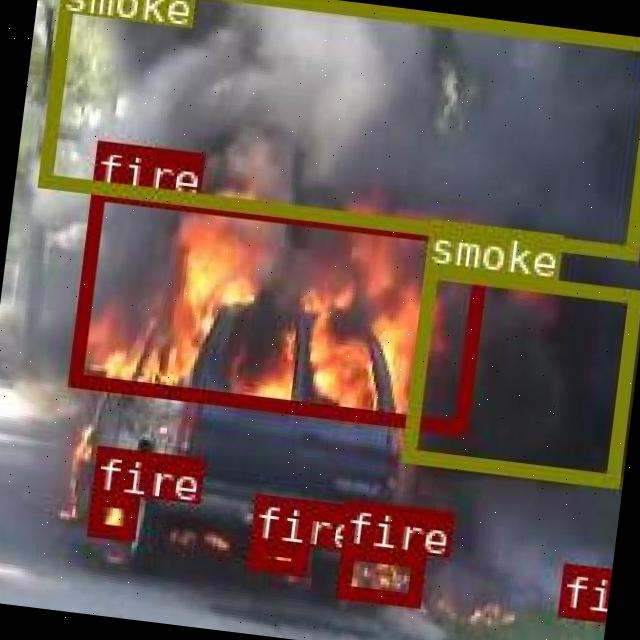fire: (68, 185, 488, 431), (334, 544, 422, 604), (556, 560, 607, 616), (86, 490, 136, 538), (244, 537, 306, 573)
smoke: (37, 0, 640, 258), (401, 264, 639, 486)
